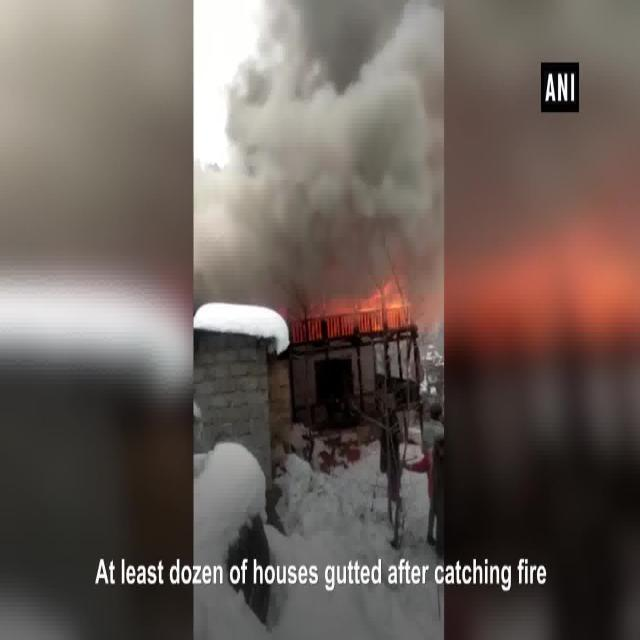Fire: (357, 290, 412, 330)
Smoke: (274, 5, 442, 283), (194, 171, 270, 303)
